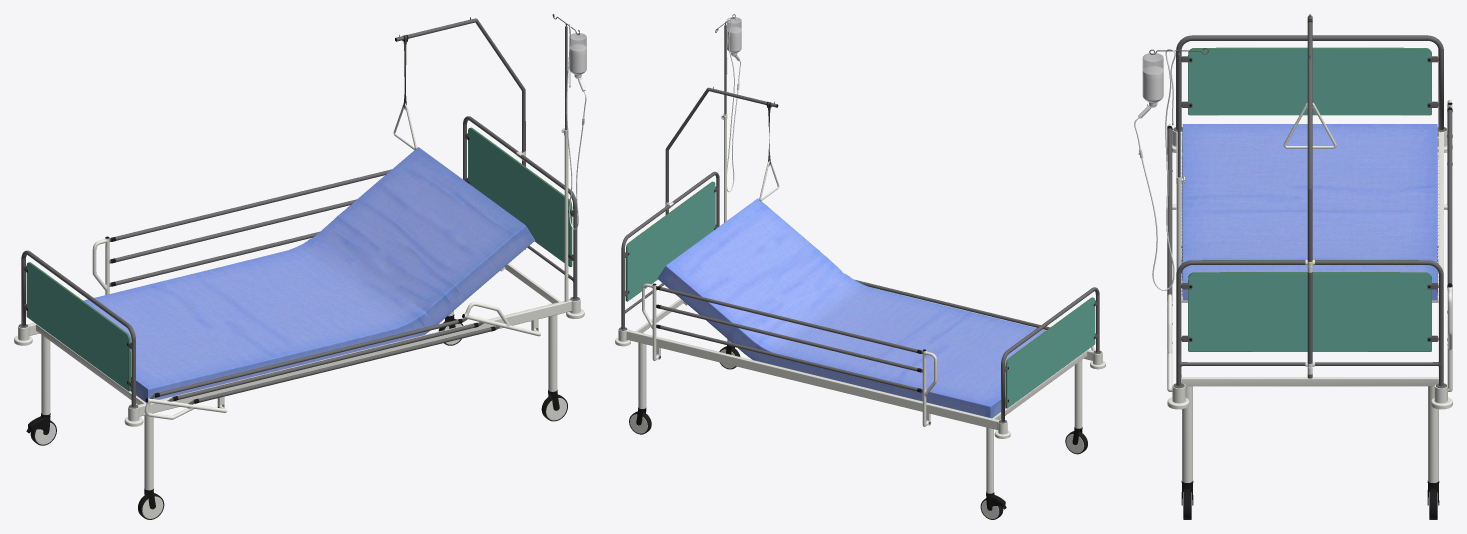
Rendered from cama-prop.glb.
3 views of the same model, side by side, from view 1: azimuth 30°, elevation 25°; view 2: azimuth 150°, elevation 25°; view 3: azimuth 270°, elevation 25° (orthographic). The views are drawn at different scales.
Visible parts, largest first — view 1: Object_5, Object_7, Object_13, Object_20, Object_12, Object_19, Object_11, Object_18, Object_2, Object_6; view 2: Object_5, Object_7, Object_20, Object_12, Object_19, Object_13, Object_11, Object_18, Object_2; view 3: Object_5, Object_7, Object_20, Object_13, Object_12, Object_19, Object_11, Object_2, Object_6, Object_10, Object_15, Object_8 (+1 smaller).
Part boxes in pixels (left/top/right/bottom): Object_5: left=83, top=147, right=535, bottom=402; Object_7: left=26, top=128, right=570, bottom=390; Object_13: left=149, top=14, right=579, bottom=404; Object_20: left=14, top=129, right=584, bottom=426; Object_12: left=23, top=17, right=573, bottom=387; Object_19: left=41, top=238, right=557, bottom=490; Object_11: left=19, top=214, right=579, bottom=408; Object_18: left=35, top=267, right=566, bottom=518; Object_2: left=27, top=127, right=572, bottom=391; Object_6: left=569, top=33, right=586, bottom=78; Object_5: left=657, top=198, right=1045, bottom=418; Object_7: left=627, top=182, right=1095, bottom=408; Object_20: left=615, top=114, right=1105, bottom=438; Object_12: left=625, top=86, right=1097, bottom=404; Object_19: left=638, top=283, right=1094, bottom=493; Object_13: left=621, top=14, right=1049, bottom=329; Object_11: left=619, top=226, right=1101, bottom=423; Object_18: left=630, top=301, right=1084, bottom=518; Object_2: left=625, top=181, right=1095, bottom=408; Object_5: left=1182, top=124, right=1437, bottom=300; Object_7: left=1188, top=49, right=1431, bottom=351; Object_20: left=1167, top=127, right=1452, bottom=409; Object_13: left=1149, top=48, right=1443, bottom=386; Object_12: left=1181, top=14, right=1452, bottom=378; Object_19: left=1167, top=99, right=1452, bottom=482; Object_11: left=1173, top=35, right=1446, bottom=388; Object_2: left=1188, top=47, right=1431, bottom=351; Object_6: left=1142, top=53, right=1163, bottom=107; Object_10: left=1134, top=49, right=1175, bottom=290; Object_15: left=1142, top=66, right=1163, bottom=106; Object_8: left=1183, top=488, right=1437, bottom=519.
Bounding box in the file's own units: 91.08 × 75.89 × 46.2.
15 materials, 4 textured.
